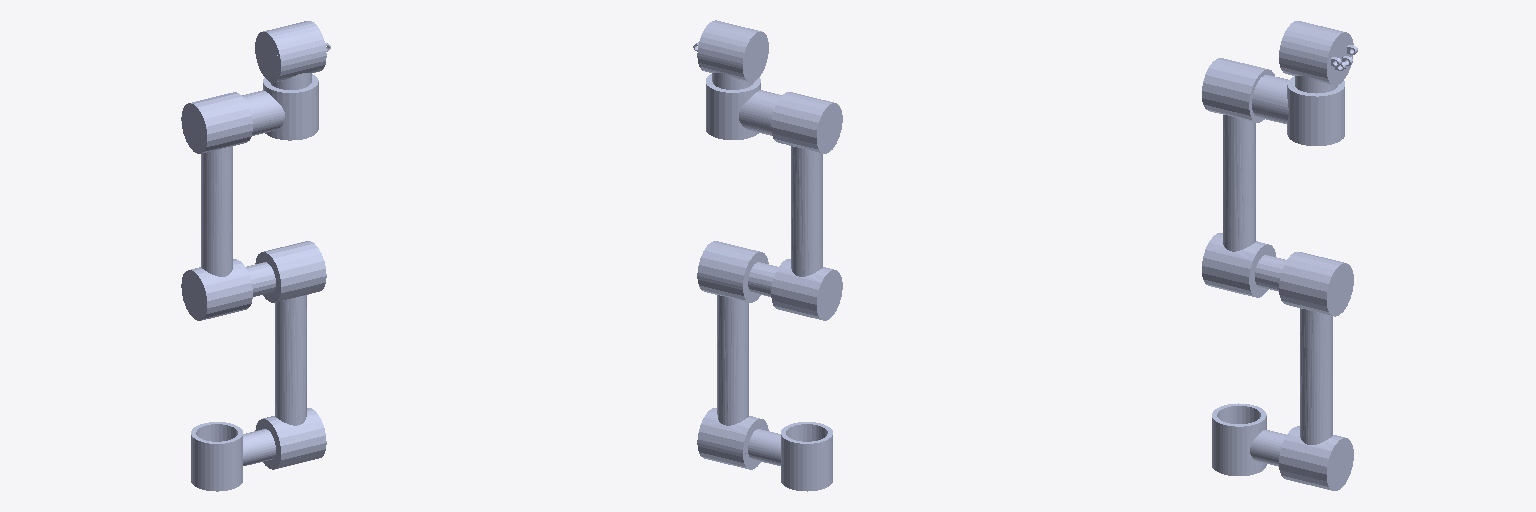
URDF robot description (robotarm):
<?xml version="1.0" encoding="utf-8"?>
<!-- This URDF was automatically created by SolidWorks to URDF Exporter! Originally created by [author] ([email redacted]) 
     Commit Version: 1.5.1-0-g916b5db  Build Version: 1.5.7152.31018
     For more information, please see http://wiki.ros.org/sw_urdf_exporter -->
<robot
  name="robotarm">
  <link
    name="base_link">
    <inertial>
      <origin
        xyz="0 7.73940626185152E-18 0.0943086092715232"
        rpy="0 0 0" />
      <mass
        value="5.6925658883047" />
      <inertia
        ixx="0.0253978911460265"
        ixy="-5.19141599830795E-51"
        ixz="-8.47850573713574E-35"
        iyy="0.0253978911460265"
        iyz="5.84007442267779E-20"
        izz="0.0263516791783112" />
    </inertial>
    <visual>
      <origin
        xyz="0 0 0"
        rpy="0 0 0" />
      <geometry>
        <mesh
          filename="package://robotarm/meshes/base_link.STL" />
      </geometry>
      <material
        name="">
        <color
          rgba="0.792156862745098 0.819607843137255 0.933333333333333 1" />
      </material>
    </visual>
    <collision>
      <origin
        xyz="0 0 0"
        rpy="0 0 0" />
      <geometry>
        <mesh
          filename="package://robotarm/meshes/base_link.STL" />
      </geometry>
    </collision>
  </link>
  <link
    name="Link_1">
    <inertial>
      <origin
        xyz="0.0994051462871013 0.0499999999560493 1.61421868932957E-08"
        rpy="0 0 0" />
      <mass
        value="0.968515917956123" />
      <inertia
        ixx="0.00101098741855169"
        ixy="-4.24067273865609E-12"
        ixz="8.95948128514241E-11"
        iyy="0.00130687061897204"
        iyz="3.92629041664754E-10"
        izz="0.00125061992464247" />
    </inertial>
    <visual>
      <origin
        xyz="0 0 0"
        rpy="0 0 0" />
      <geometry>
        <mesh
          filename="package://robotarm/meshes/Link_1.STL" />
      </geometry>
      <material
        name="">
        <color
          rgba="0.792156862745098 0.819607843137255 0.933333333333333 1" />
      </material>
    </visual>
    <collision>
      <origin
        xyz="0 0 0"
        rpy="0 0 0" />
      <geometry>
        <mesh
          filename="package://robotarm/meshes/Link_1.STL" />
      </geometry>
    </collision>
  </link>
  <joint
    name="Joint_1"
    type="continuous">
    <origin
      xyz="0 0 0.1652"
      rpy="1.5707963267949 0 0" />
    <parent
      link="base_link" />
    <child
      link="Link_1" />
    <axis
      xyz="0 1 0" />
  </joint>
  <link
    name="Link_2">
    <inertial>
      <origin
        xyz="0.0499999836856851 0.1755 2.64244421609409E-07"
        rpy="0 0 0" />
      <mass
        value="1.28853409511538" />
      <inertia
        ixx="0.022686909508374"
        ixy="5.75033630158586E-19"
        ixz="3.22100359901118E-09"
        iyy="0.00137829240474618"
        iyz="-3.00514315005634E-19"
        izz="0.0225743861223479" />
    </inertial>
    <visual>
      <origin
        xyz="0 0 0"
        rpy="0 0 0" />
      <geometry>
        <mesh
          filename="package://robotarm/meshes/Link_2.STL" />
      </geometry>
      <material
        name="">
        <color
          rgba="0.792156862745098 0.819607843137255 0.933333333333333 1" />
      </material>
    </visual>
    <collision>
      <origin
        xyz="0 0 0"
        rpy="0 0 0" />
      <geometry>
        <mesh
          filename="package://robotarm/meshes/Link_2.STL" />
      </geometry>
    </collision>
  </link>
  <joint
    name="Joint_2"
    type="continuous">
    <origin
      xyz="0.112400000000005 0.0500000000000001 0"
      rpy="0 0 0" />
    <parent
      link="Link_1" />
    <child
      link="Link_2" />
    <axis
      xyz="1 0 0" />
  </joint>
  <link
    name="Link_3">
    <inertial>
      <origin
        xyz="-0.0312000000000064 -1.11022302462516E-16 1.71845661893685E-18"
        rpy="0 0 0" />
      <mass
        value="1.18174149257434" />
      <inertia
        ixx="0.000883642048860509"
        ixy="-1.45583746962657E-35"
        ixz="2.82850736616679E-36"
        iyy="0.00796527652302551"
        iyz="3.26265223399926E-52"
        izz="0.00796527652302551" />
    </inertial>
    <visual>
      <origin
        xyz="0 0 0"
        rpy="0 0 0" />
      <geometry>
        <mesh
          filename="package://robotarm/meshes/Link_3.STL" />
      </geometry>
      <material
        name="">
        <color
          rgba="0.792156862745098 0.819607843137255 0.933333333333333 1" />
      </material>
    </visual>
    <collision>
      <origin
        xyz="0 0 0"
        rpy="0 0 0" />
      <geometry>
        <mesh
          filename="package://robotarm/meshes/Link_3.STL" />
      </geometry>
    </collision>
  </link>
  <joint
    name="Joint_3"
    type="continuous">
    <origin
      xyz="0 0.351 0"
      rpy="0 0 0" />
    <parent
      link="Link_2" />
    <child
      link="Link_3" />
    <axis
      xyz="1 0 0" />
  </joint>
  <link
    name="Link_4">
    <inertial>
      <origin
        xyz="-0.0499999884862342 0.175600002581584 2.25121599863398E-07"
        rpy="0 0 0" />
      <mass
        value="1.28909961850142" />
      <inertia
        ixx="0.0227161468686484"
        ixy="6.51842272813438E-10"
        ixz="-3.22480744280282E-09"
        iyy="0.00137854681548726"
        iyz="5.50711970014189E-09"
        izz="0.022603623568969" />
    </inertial>
    <visual>
      <origin
        xyz="0 0 0"
        rpy="0 0 0" />
      <geometry>
        <mesh
          filename="package://robotarm/meshes/Link_4.STL" />
      </geometry>
      <material
        name="">
        <color
          rgba="0.792156862745098 0.819607843137255 0.933333333333333 1" />
      </material>
    </visual>
    <collision>
      <origin
        xyz="0 0 0"
        rpy="0 0 0" />
      <geometry>
        <mesh
          filename="package://robotarm/meshes/Link_4.STL" />
      </geometry>
    </collision>
  </link>
  <joint
    name="Joint_4"
    type="continuous">
    <origin
      xyz="-0.0624 0 0"
      rpy="0 0 0" />
    <parent
      link="Link_3" />
    <child
      link="Link_4" />
    <axis
      xyz="1 0 0" />
  </joint>
  <link
    name="Link_5">
    <inertial>
      <origin
        xyz="0.0234778306347505 9.19930254195123E-09 9.67011043676775E-08"
        rpy="0 0 0" />
      <mass
        value="1.20648390273837" />
      <inertia
        ixx="0.00141049786190329"
        ixy="-4.78535096826722E-12"
        ixz="-1.50596997323671E-10"
        iyy="0.00750318533563848"
        iyz="-2.22975998606996E-10"
        izz="0.00738627403646384" />
    </inertial>
    <visual>
      <origin
        xyz="0 0 0"
        rpy="0 0 0" />
      <geometry>
        <mesh
          filename="package://robotarm/meshes/Link_5.STL" />
      </geometry>
      <material
        name="">
        <color
          rgba="0.792156862745098 0.819607843137255 0.933333333333333 1" />
      </material>
    </visual>
    <collision>
      <origin
        xyz="0 0 0"
        rpy="0 0 0" />
      <geometry>
        <mesh
          filename="package://robotarm/meshes/Link_5.STL" />
      </geometry>
    </collision>
  </link>
  <joint
    name="Joint_5"
    type="continuous">
    <origin
      xyz="0 0.3512 0"
      rpy="0 0 0" />
    <parent
      link="Link_4" />
    <child
      link="Link_5" />
    <axis
      xyz="1 0 0" />
  </joint>
  <link
    name="Link_6">
    <inertial>
      <origin
        xyz="-4.94980857412841E-08 0.0422699130962683 -6.31668961434475E-08"
        rpy="0 0 0" />
      <mass
        value="0.869909136744433" />
      <inertia
        ixx="0.00355831006646369"
        ixy="-3.18908705115779E-12"
        ixz="2.62810393495205E-10"
        iyy="0.0010013970608803"
        iyz="1.20370999840181E-10"
        izz="0.0034916422873186" />
    </inertial>
    <visual>
      <origin
        xyz="0 0 0"
        rpy="0 0 0" />
      <geometry>
        <mesh
          filename="package://robotarm/meshes/Link_6.STL" />
      </geometry>
      <material
        name="">
        <color
          rgba="0.792156862745098 0.819607843137255 0.933333333333333 1" />
      </material>
    </visual>
    <collision>
      <origin
        xyz="0 0 0"
        rpy="0 0 0" />
      <geometry>
        <mesh
          filename="package://robotarm/meshes/Link_6.STL" />
      </geometry>
    </collision>
  </link>
  <joint
    name="Joint_6"
    type="continuous">
    <origin
      xyz="0.1124 0 0"
      rpy="0 0 0" />
    <parent
      link="Link_5" />
    <child
      link="Link_6" />
    <axis
      xyz="0 1 0" />
  </joint>
  <link
    name="Link_7">
    <inertial>
      <origin
        xyz="0.000716655966196439 0 -1.31625882989554E-14"
        rpy="0 0 0" />
      <mass
        value="0.509047523656065" />
      <inertia
        ixx="0.000402319698175284"
        ixy="-9.86780151696572E-21"
        ixz="-5.53102483025915E-22"
        iyy="0.000620169294447699"
        iyz="1.27626649220071E-21"
        izz="0.000620258587978795" />
    </inertial>
    <visual>
      <origin
        xyz="0 0 0"
        rpy="0 0 0" />
      <geometry>
        <mesh
          filename="package://robotarm/meshes/Link_7.STL" />
      </geometry>
      <material
        name="">
        <color
          rgba="0.792156862745098 0.819607843137255 0.933333333333333 1" />
      </material>
    </visual>
    <collision>
      <origin
        xyz="0 0 0"
        rpy="0 0 0" />
      <geometry>
        <mesh
          filename="package://robotarm/meshes/Link_7.STL" />
      </geometry>
    </collision>
  </link>
  <joint
    name="Joint_7"
    type="continuous">
    <origin
      xyz="0 0.112399999999999 0"
      rpy="0 0 0" />
    <parent
      link="Link_6" />
    <child
      link="Link_7" />
    <axis
      xyz="1 0 0" />
  </joint>
  <link
    name="Catcher_Upper">
    <inertial>
      <origin
        xyz="0.0109104237838213 -4.05666522861748E-15 0.0737974932453613"
        rpy="0 0 0" />
      <mass
        value="0.324921517798083" />
      <inertia
        ixx="0.000858584402490784"
        ixy="-7.46757721695922E-19"
        ixz="-8.86900826883626E-05"
        iyy="0.000512564144941902"
        iyz="-4.92185745065157E-20"
        izz="0.000563947954235022" />
    </inertial>
    <visual>
      <origin
        xyz="0 0 0"
        rpy="0 0 0" />
      <geometry>
        <mesh
          filename="package://robotarm/meshes/Catcher_Upper.STL" />
      </geometry>
      <material
        name="">
        <color
          rgba="0.792156862745098 0.819607843137255 0.933333333333333 1" />
      </material>
    </visual>
    <collision>
      <origin
        xyz="0 0 0"
        rpy="0 0 0" />
      <geometry>
        <mesh
          filename="package://robotarm/meshes/Catcher_Upper.STL" />
      </geometry>
    </collision>
  </link>
  <joint
    name="Catcher_Joint_Upper"
    type="continuous">
    <origin
      xyz="0.0600000000000074 0.00750000000000006 0"
      rpy="-1.57079632679487 0 0" />
    <parent
      link="Link_7" />
    <child
      link="Catcher_Upper" />
    <axis
      xyz="0 1 0" />
  </joint>
  <link
    name="Catcher_Lower">
    <inertial>
      <origin
        xyz="0.0111979357928138 4.66833592191888E-15 0.0756903847589308"
        rpy="0 0 0" />
      <mass
        value="0.316579012529707" />
      <inertia
        ixx="0.00081063508166479"
        ixy="-8.47160504480095E-19"
        ixz="-8.19797227305991E-05"
        iyy="0.000467037789396841"
        iyz="4.04223671661768E-19"
        izz="0.000559202659011916" />
    </inertial>
    <visual>
      <origin
        xyz="0 0 0"
        rpy="0 0 0" />
      <geometry>
        <mesh
          filename="package://robotarm/meshes/Catcher_Lower.STL" />
      </geometry>
      <material
        name="">
        <color
          rgba="0.792156862745098 0.819607843137255 0.933333333333333 1" />
      </material>
    </visual>
    <collision>
      <origin
        xyz="0 0 0"
        rpy="0 0 0" />
      <geometry>
        <mesh
          filename="package://robotarm/meshes/Catcher_Lower.STL" />
      </geometry>
    </collision>
  </link>
  <joint
    name="Catcher_Joint_Lower"
    type="continuous">
    <origin
      xyz="0.0600000000000073 -0.00750000000000006 0"
      rpy="1.57079632679492 0 0" />
    <parent
      link="Link_7" />
    <child
      link="Catcher_Lower" />
    <axis
      xyz="0 1 0" />
  </joint>
</robot>

--- Facts derived from the render (not from the file) ---
3 views of the same robot in one strip: view 1: azimuth 30°, elevation 25°; view 2: azimuth 150°, elevation 25°; view 3: azimuth 330°, elevation 25° (orthographic).
Robot: robotarm — 10 links, 9 joints (9 continuous); root link base_link; default pose: every joint at zero.
Visible links, largest first — view 1: Link_4, Link_2, Link_1, Link_5, Link_6, Link_3, Link_7; view 2: Link_4, Link_2, Link_1, Link_5, Link_6, Link_3, Link_7; view 3: Link_2, Link_4, Link_1, Link_5, Link_6, Link_3, Link_7.
Boxes of the visible links, x1,y1,x2,y2 form: Link_4: [181, 92, 252, 320]; Link_2: [255, 241, 326, 469]; Link_1: [191, 422, 278, 491]; Link_5: [184, 74, 318, 148]; Link_6: [255, 21, 326, 89]; Link_3: [184, 257, 278, 315]; Link_7: [258, 37, 330, 77]; Link_4: [771, 92, 842, 320]; Link_2: [697, 241, 768, 469]; Link_1: [745, 422, 832, 491]; Link_5: [706, 74, 839, 148]; Link_6: [697, 20, 768, 89]; Link_3: [745, 257, 839, 315]; Link_7: [693, 37, 765, 76]; Link_2: [1279, 252, 1353, 490]; Link_4: [1202, 58, 1275, 297]; Link_1: [1212, 403, 1350, 485]; Link_5: [1252, 75, 1344, 145]; Link_6: [1279, 21, 1353, 93]; Link_3: [1252, 250, 1350, 310]; Link_7: [1329, 38, 1357, 79].
Size in the robot's own frame: 0.2799 by 0.1063 by 0.9145 metres.
Meshes: 10 distinct files referenced, 7 mesh visuals loaded (7 binary STL); not drawn: 3 (reference not matched to a file when rendering).